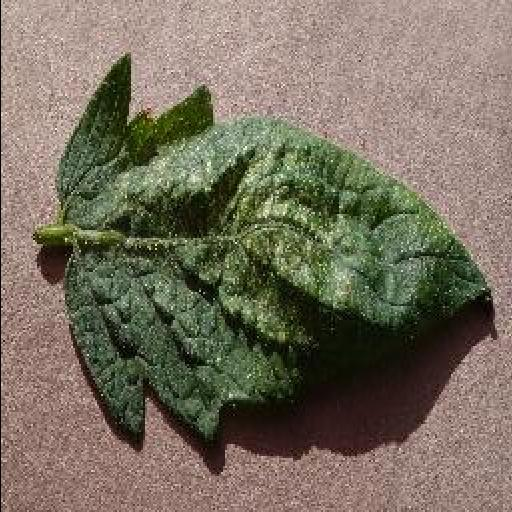disease_tomato: (50, 57, 494, 435)
